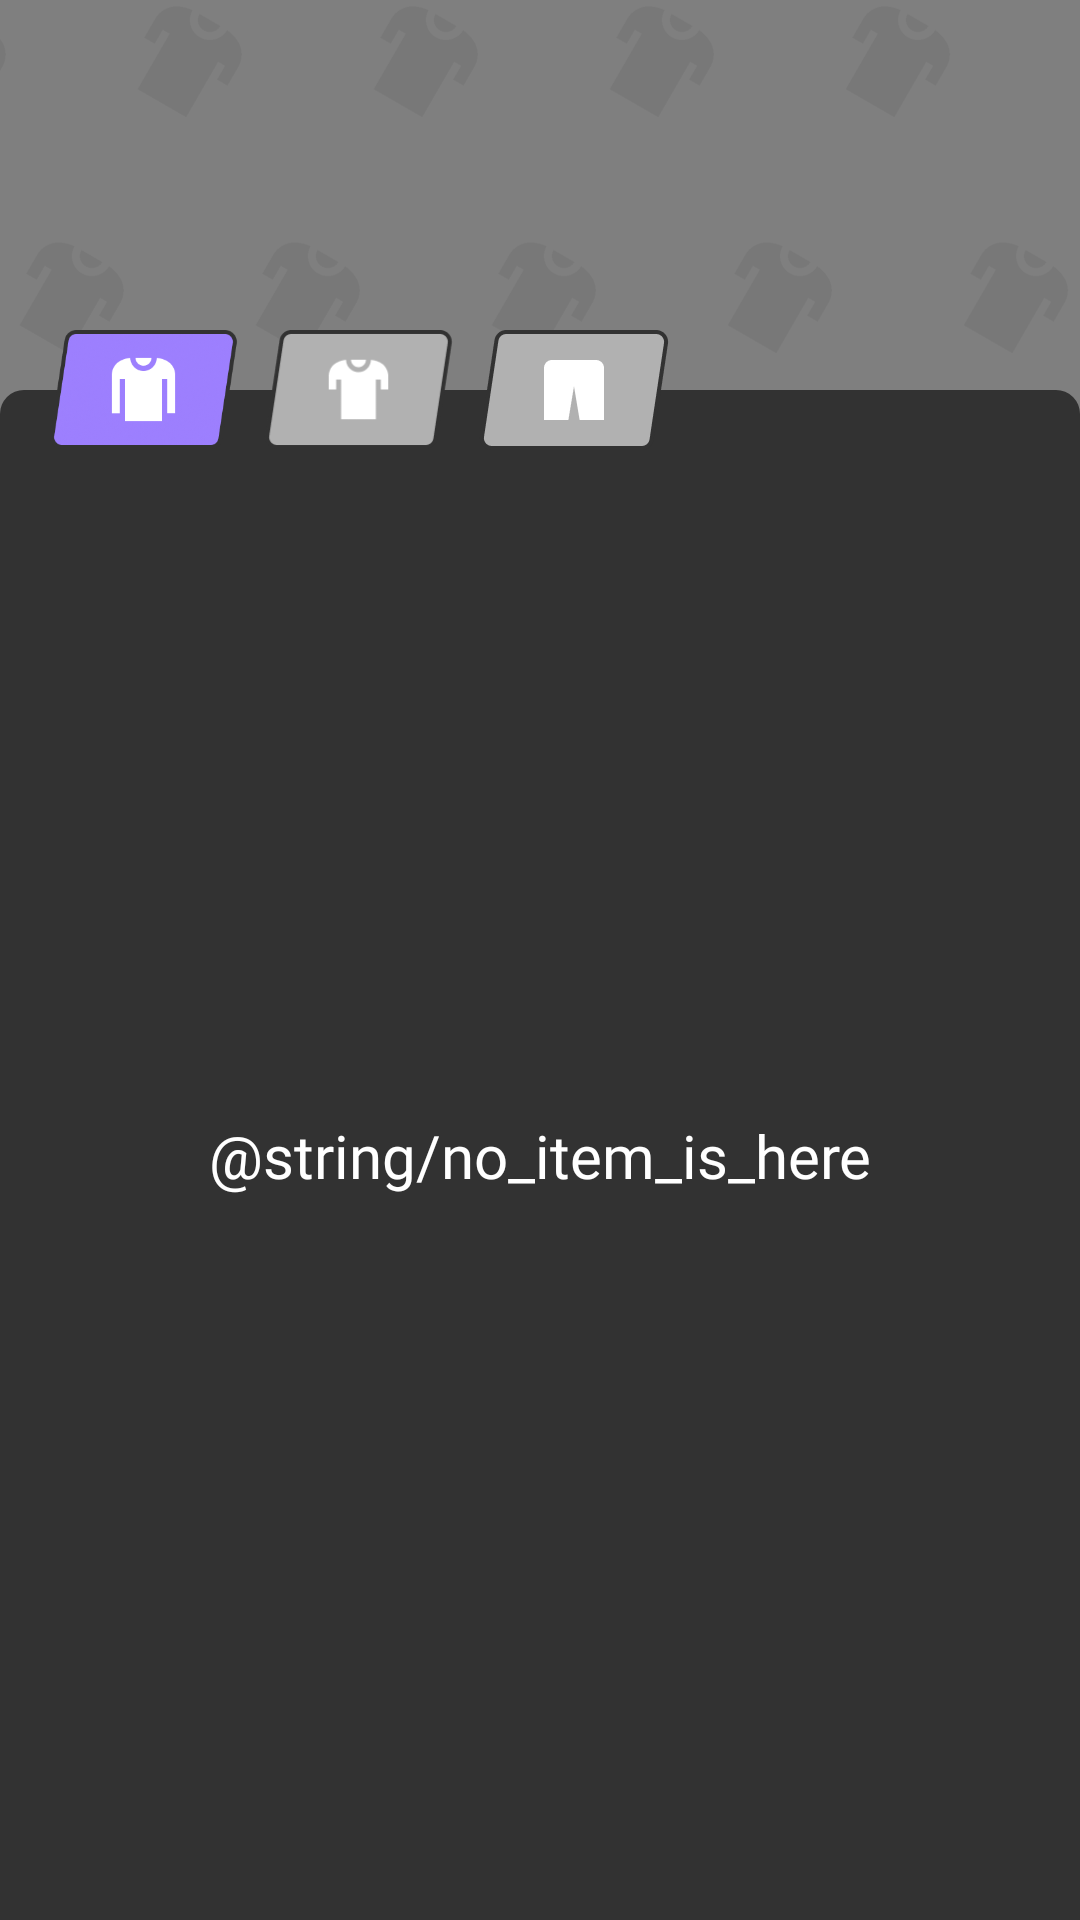

Icon click points for this 1080×1920 phone screenshot, format point (x, y):
creation pant: point (574, 390)
creation shirt: point (143, 389), point (358, 389)
